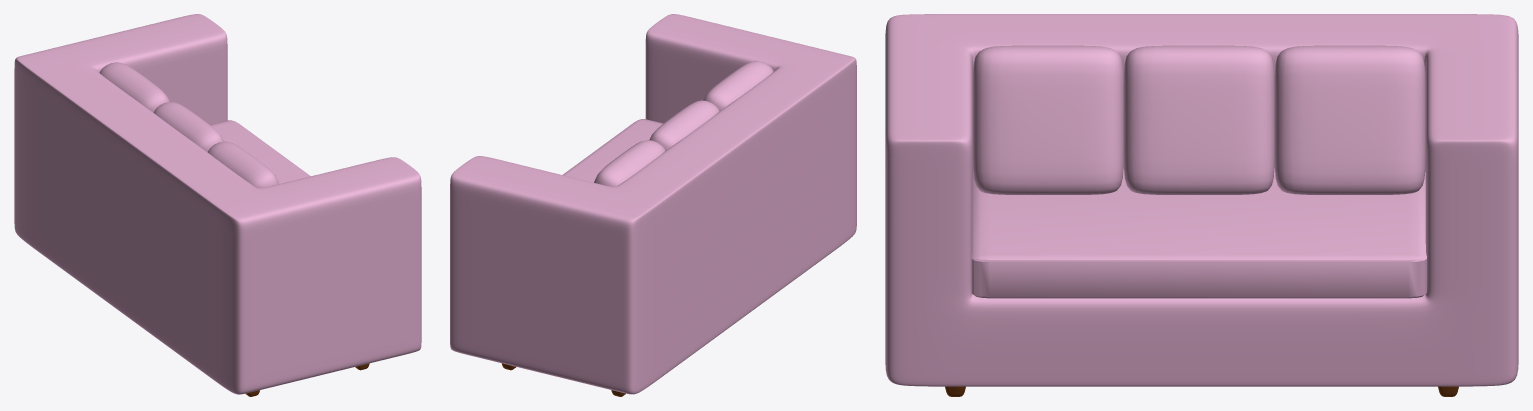
File: Sofa.fbx
3 views of the same model, side by side, from view 1: azimuth 30°, elevation 25°; view 2: azimuth 150°, elevation 25°; view 3: azimuth 270°, elevation 25° (orthographic). The views are drawn at different scales.
Visible parts, largest first — view 1: Sofa; view 2: Sofa; view 3: Sofa.
Boxes of the visible parts, box(x1,y1,x2,y2) form: Sofa: box(14, 14, 421, 396); Sofa: box(450, 14, 856, 396); Sofa: box(885, 14, 1518, 396).
Size of the model in its own units: 113 by 118 by 234.
